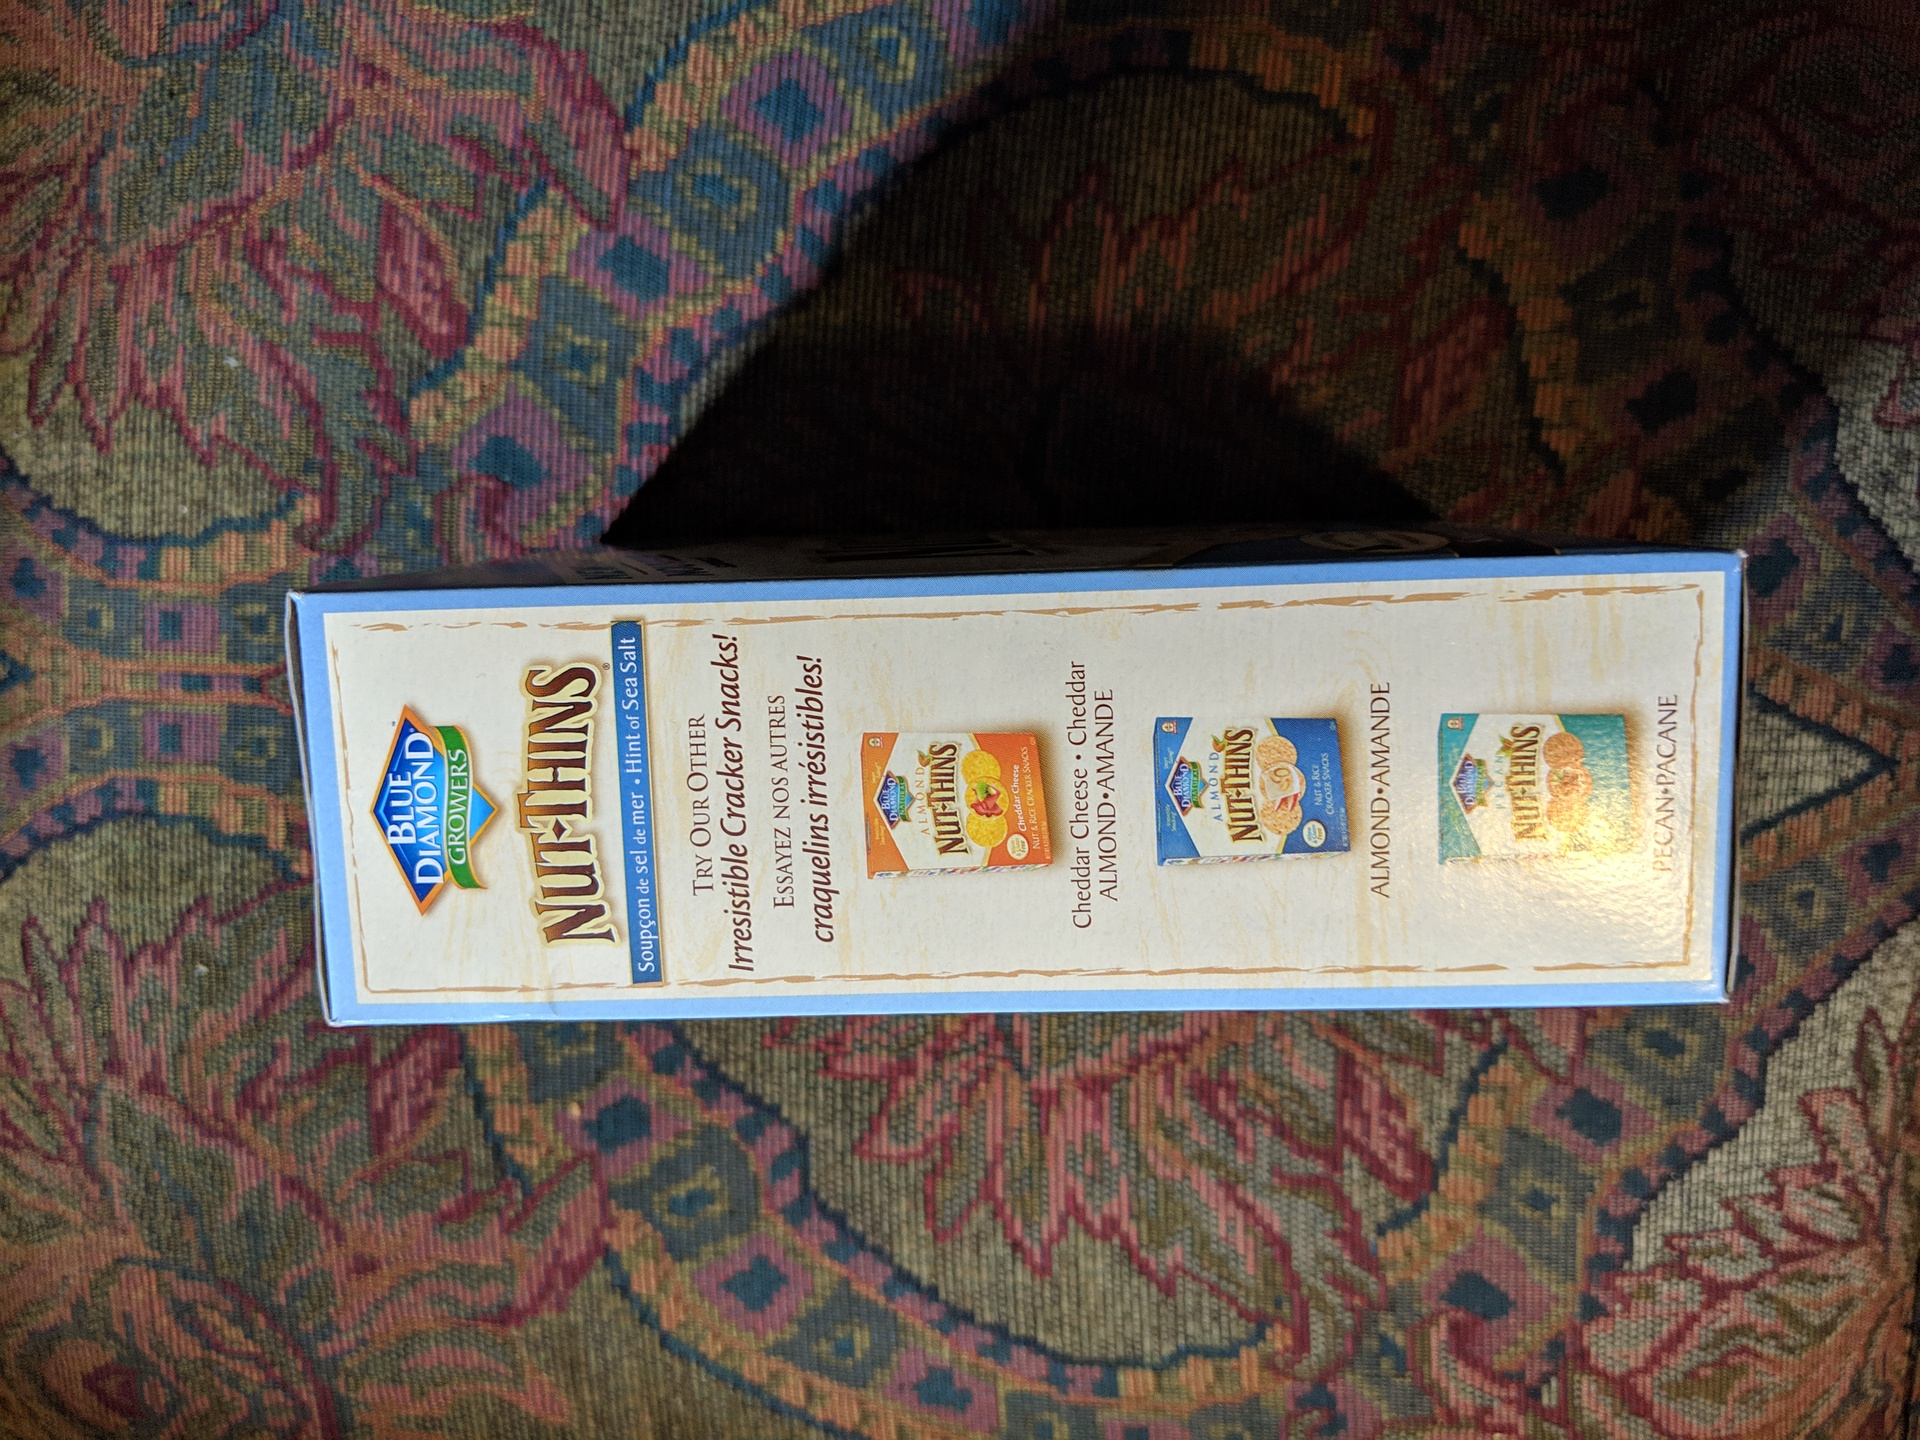blue_diamond_nut_thins_almond_seasalt: (328, 554, 1745, 1016)
